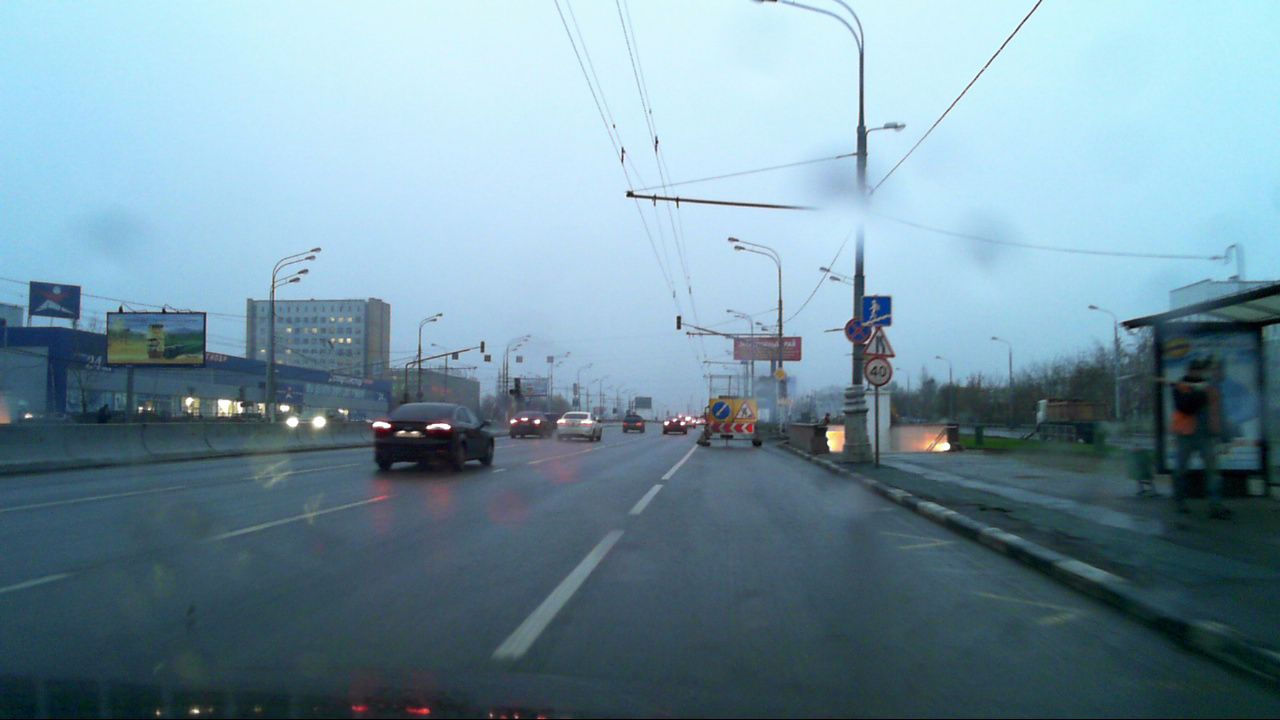No Parking: (844, 317, 869, 341)
speed_warning_40: (864, 358, 891, 386)
